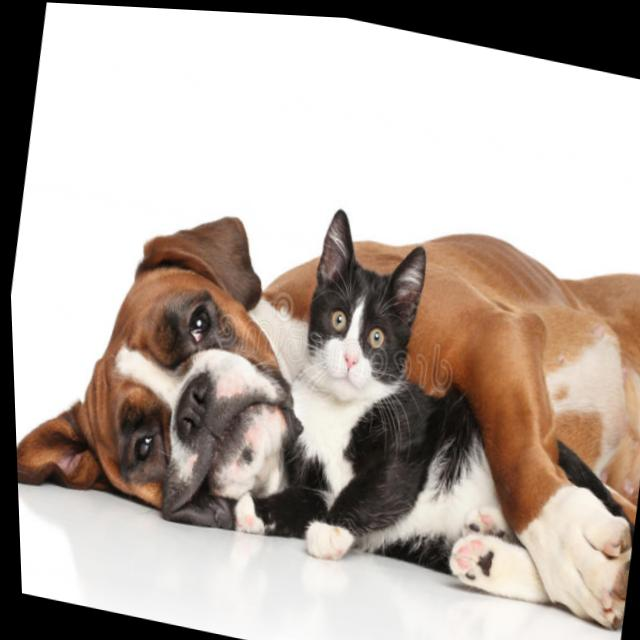Cat: (262, 185, 487, 567)
Dog: (5, 175, 315, 554)
